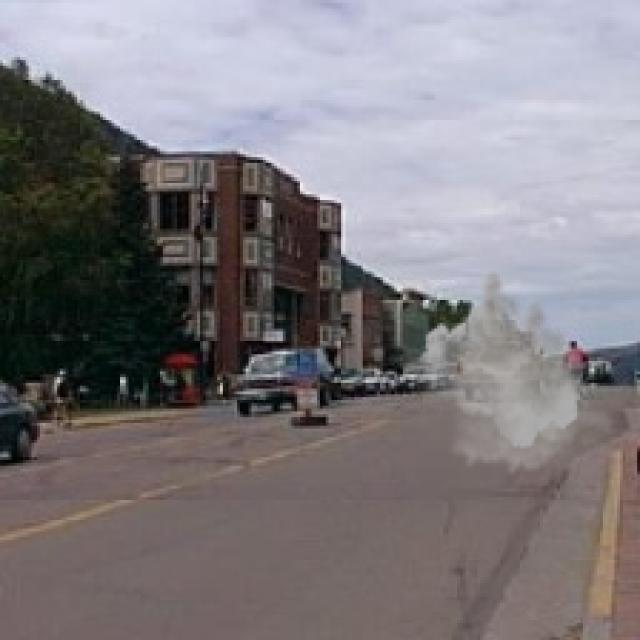Smoke: (414, 262, 614, 478)
